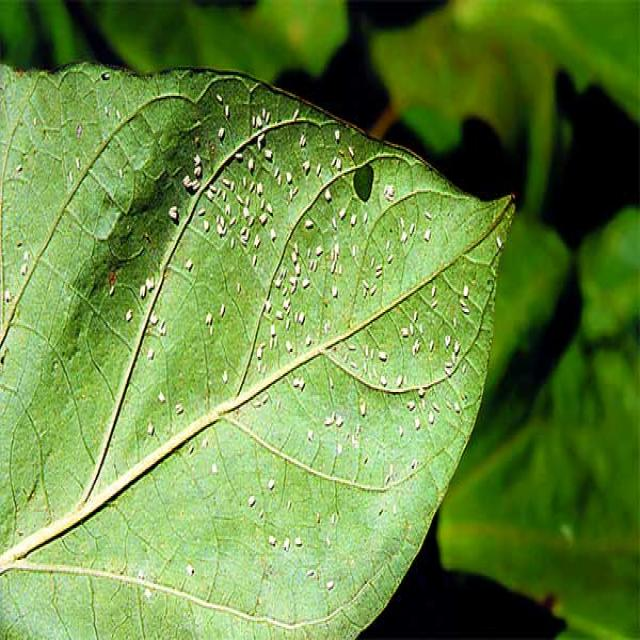Thrip-Group-: (157, 90, 440, 485)
Thrip-Larva-: (219, 101, 233, 121), (236, 274, 246, 298), (233, 191, 246, 208), (367, 254, 378, 272), (214, 91, 226, 105), (195, 205, 207, 218), (385, 252, 396, 266), (429, 282, 438, 299), (242, 173, 250, 191), (219, 298, 226, 318), (429, 298, 439, 312), (222, 174, 232, 188), (374, 261, 386, 272), (373, 270, 386, 279), (233, 151, 244, 161)
